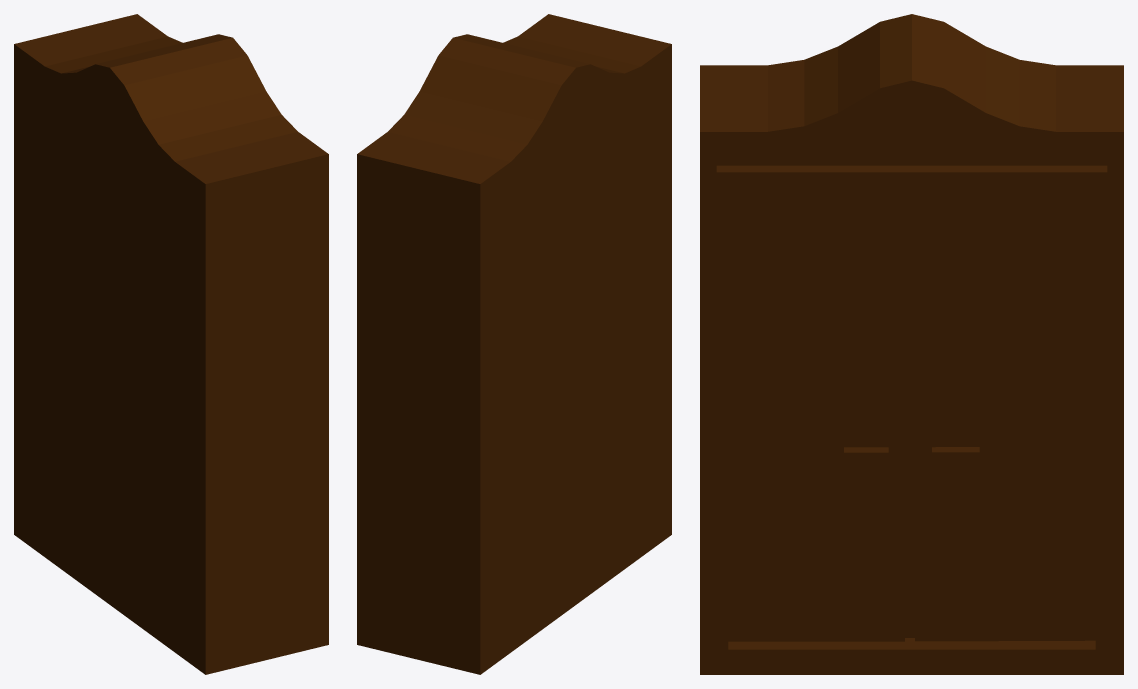
The model's file is DRAWER.fbx.
3 renders of one model, left to right at view 1: azimuth 30°, elevation 25°; view 2: azimuth 150°, elevation 25°; view 3: azimuth 270°, elevation 25°, orthographic. The views are drawn at different scales.
Visible parts, largest first — view 1: Cube.003; view 2: Cube.003; view 3: Cube.003.
Boxes of the visible parts, bbox=[...] form: Cube.003: bbox=[14, 14, 328, 674]; Cube.003: bbox=[357, 14, 671, 674]; Cube.003: bbox=[700, 14, 1123, 674].
Size of the model in its own units: 301 by 1252 by 809.
